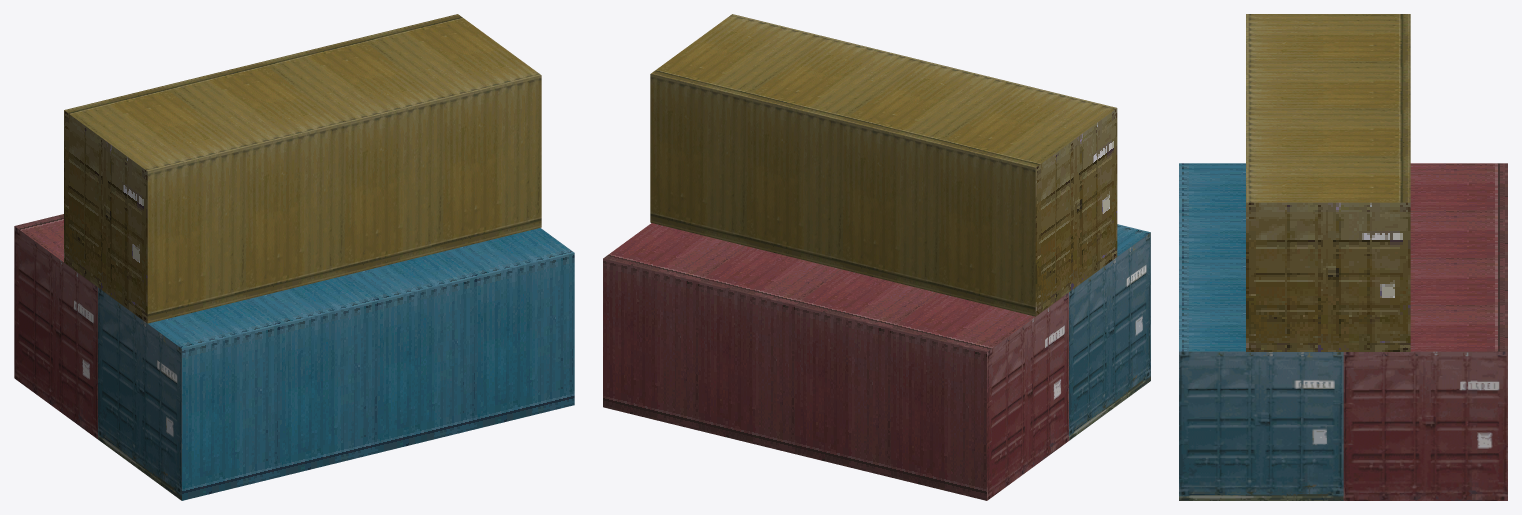
File: vgsefrght04.obj
The picture shows the model from 3 angles, left to right: view 1: azimuth 30°, elevation 25°; view 2: azimuth 150°, elevation 25°; view 3: azimuth 270°, elevation 25°; orthographic projection. The views are drawn at different scales.
Visible parts, largest first — view 1: vgsEfrght04; view 2: vgsEfrght04; view 3: vgsEfrght04.
Boxes of the visible parts, x1=… form: vgsEfrght04: x1=14, y1=14, x2=574, y2=500; vgsEfrght04: x1=603, y1=14, x2=1150, y2=500; vgsEfrght04: x1=1179, y1=14, x2=1507, y2=500.
Bounding box in the file's own units: 9.3 × 6.87 × 6.85.
6 materials, 6 textured.
